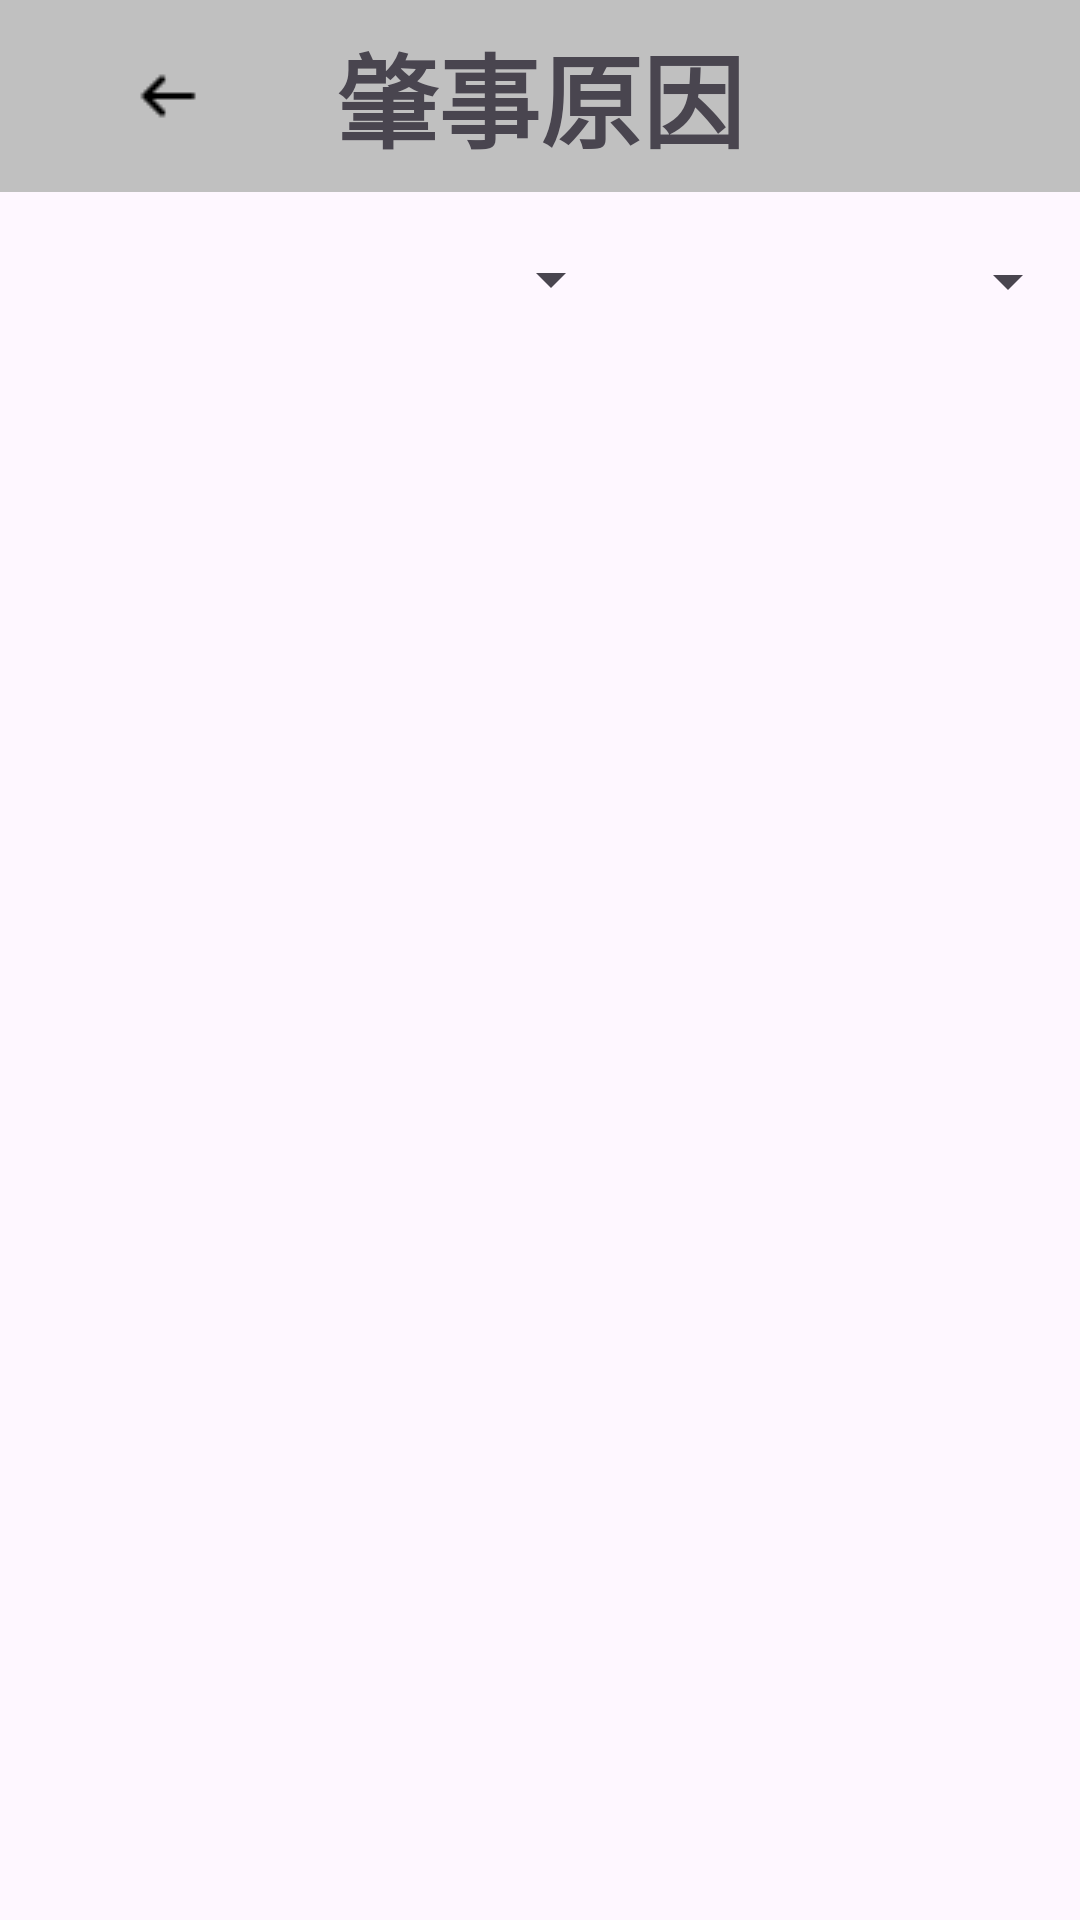

Where icons sit on this 1080px x 1920px app screen, as {"x1": x1, "y1": y1, "x2": x2, "y2": y2}:
arrow left: {"x1": 140, "y1": 74, "x2": 196, "y2": 118}
